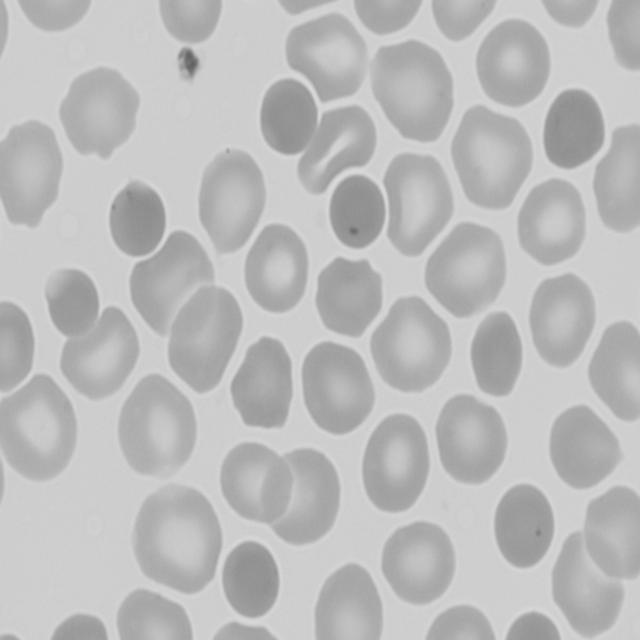RBC: (126, 483, 223, 596), (447, 102, 537, 212), (372, 38, 457, 149), (163, 281, 244, 394), (116, 371, 200, 478), (0, 374, 82, 482), (426, 221, 512, 321), (382, 148, 458, 260), (56, 304, 142, 402), (359, 410, 437, 518), (280, 10, 372, 101), (370, 294, 452, 396), (57, 61, 139, 160), (298, 334, 378, 434), (472, 14, 552, 111), (433, 390, 511, 488), (196, 150, 267, 256), (544, 401, 622, 496), (522, 270, 596, 370), (515, 174, 591, 270), (0, 118, 66, 226), (240, 224, 312, 322), (228, 332, 298, 432), (381, 517, 458, 607), (311, 251, 384, 341), (215, 438, 288, 526), (583, 318, 640, 428), (310, 562, 384, 640), (580, 487, 640, 580), (466, 308, 522, 402), (590, 133, 640, 234), (109, 588, 194, 640), (44, 266, 102, 340), (0, 301, 41, 394), (152, 0, 227, 50), (427, 0, 505, 41), (13, 0, 94, 38), (351, 0, 431, 36), (604, 0, 640, 80), (421, 604, 498, 640), (27, 615, 120, 640), (531, 0, 609, 28), (494, 612, 565, 640)
Spherocyte: (492, 480, 560, 574), (542, 85, 610, 172), (256, 70, 321, 158), (218, 536, 283, 621), (107, 176, 172, 259), (322, 170, 387, 252)
